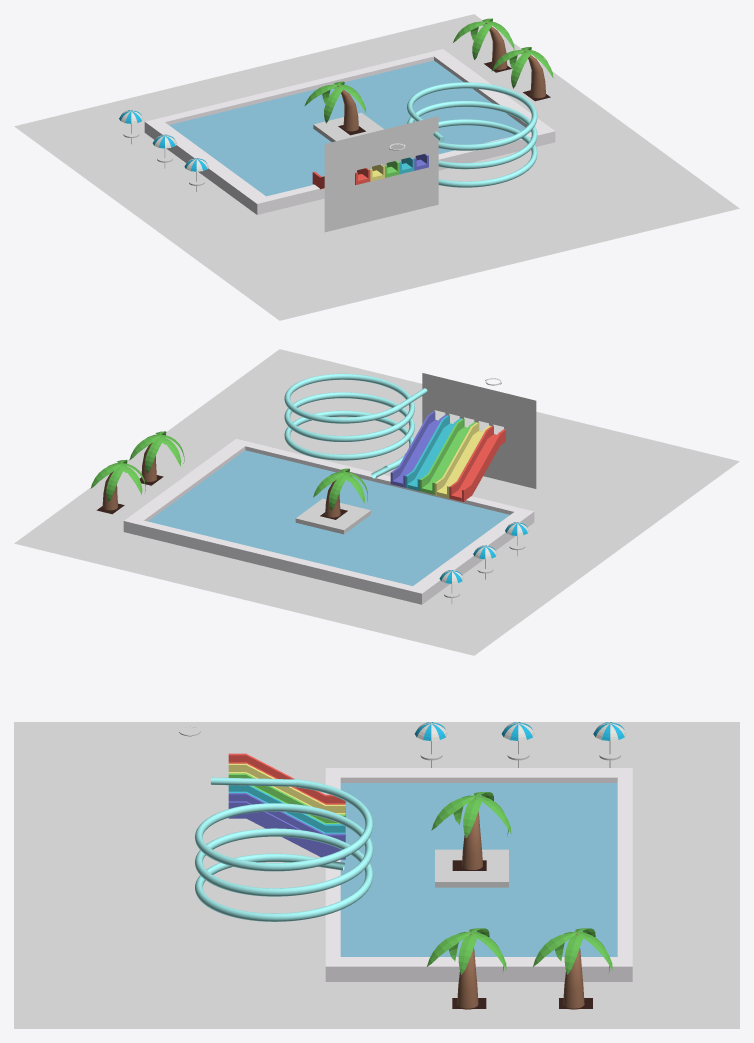
Rendered from レンガ調の地面.fbx.
3 renders of one model, top to bottom at view 1: azimuth 30°, elevation 25°; view 2: azimuth 150°, elevation 25°; view 3: azimuth 270°, elevation 25°, orthographic. The views are drawn at different scales.
Parts seen in each view (by area): view 1: 平面, 水面, 平面.001, プール, ぐるぐるスライダー, ヤシの木１.001, ヤシの木１, ヤシの木１.002, 立方体; view 2: 平面, 水面, プール, 平面.001, ぐるぐるスライダー, スライダー１, 立方体, スライダー２, スライダー５, スライダー３, スライダー４, ヤシの木１.002 (+2 smaller); view 3: 平面, 水面, プール, ぐるぐるスライダー, 立方体, ヤシの木１.002, ヤシの木１.001, ヤシの木１, スライダー５, スライダー２, スライダー１, スライダー４ (+2 smaller).
Boxes of the visible parts, box(x1,y1,x2,y2) form: 平面: box(14, 14, 739, 320); 水面: box(169, 60, 530, 196); 平面.001: box(324, 116, 438, 232); プール: box(144, 49, 555, 214); ぐるぐるスライダー: box(407, 82, 537, 187); ヤシの木１.001: box(491, 47, 553, 98); ヤシの木１: box(304, 81, 366, 131); ヤシの木１.002: box(453, 18, 514, 69); 立方体: box(313, 112, 383, 141); 平面: box(14, 349, 739, 655); 水面: box(148, 450, 509, 585); プール: box(123, 438, 534, 604); 平面.001: box(422, 373, 536, 488); ぐるぐるスライダー: box(284, 373, 414, 469); スライダー１: box(449, 426, 505, 501); 立方体: box(295, 498, 370, 534); スライダー２: box(434, 422, 490, 498); スライダー５: box(390, 411, 446, 487); スライダー３: box(420, 418, 476, 494); スライダー４: box(405, 415, 461, 491); ヤシの木１.002: box(90, 459, 145, 510); 平面: box(14, 722, 739, 1028); 水面: box(340, 783, 617, 956); プール: box(325, 768, 632, 981); ぐるぐるスライダー: box(195, 779, 373, 921); 立方体: box(435, 849, 508, 887); ヤシの木１.002: box(533, 928, 612, 1009); ヤシの木１.001: box(427, 928, 506, 1009); ヤシの木１: box(431, 792, 511, 869); スライダー５: box(228, 793, 345, 859); スライダー２: box(228, 763, 345, 814); スライダー１: box(228, 753, 345, 816); スライダー４: box(228, 785, 345, 842).
Bounding box in the file's own units: 6663 × 1453 × 6663.
